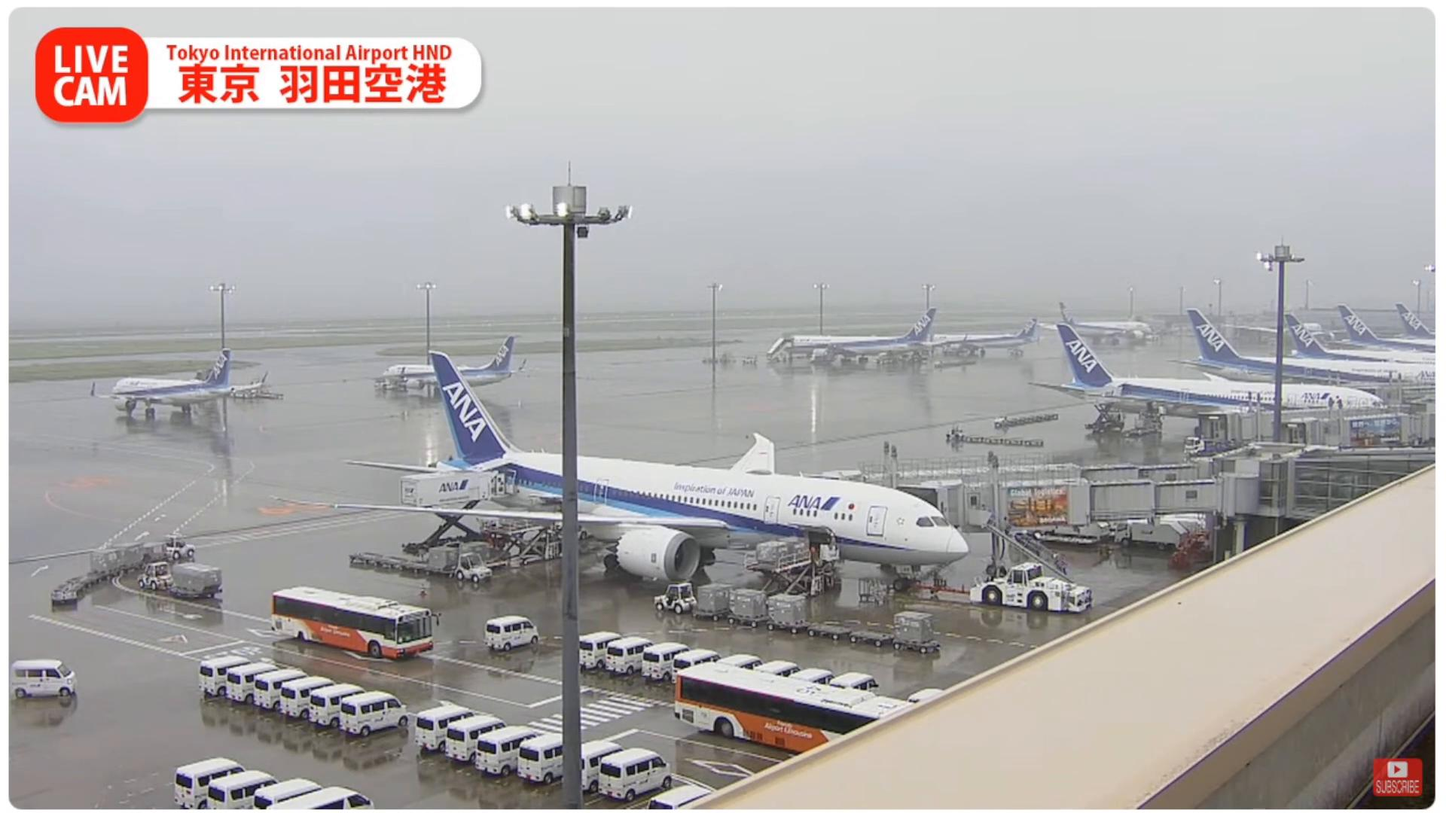APS: (968, 562, 1094, 614)
Aerobridge: (892, 474, 1261, 535), (796, 455, 1210, 487)
Airplane: (270, 351, 970, 592)
Catering: (400, 469, 512, 555)
Dolly: (692, 605, 940, 654), (51, 551, 168, 610), (348, 552, 451, 576), (172, 584, 221, 598)
JCPL: (701, 556, 833, 611), (475, 521, 563, 568)
Tractor: (653, 582, 699, 614), (452, 552, 488, 582), (137, 561, 173, 589), (164, 533, 197, 559)
Window: (1292, 458, 1433, 516)
